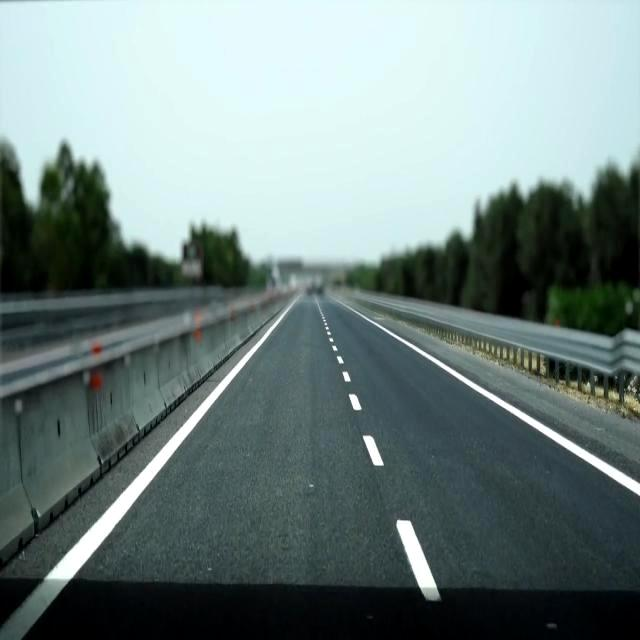lane: (4, 304, 291, 637), (376, 324, 639, 495), (399, 521, 439, 601), (363, 435, 384, 466), (349, 394, 360, 411)
road: (29, 296, 638, 639)
